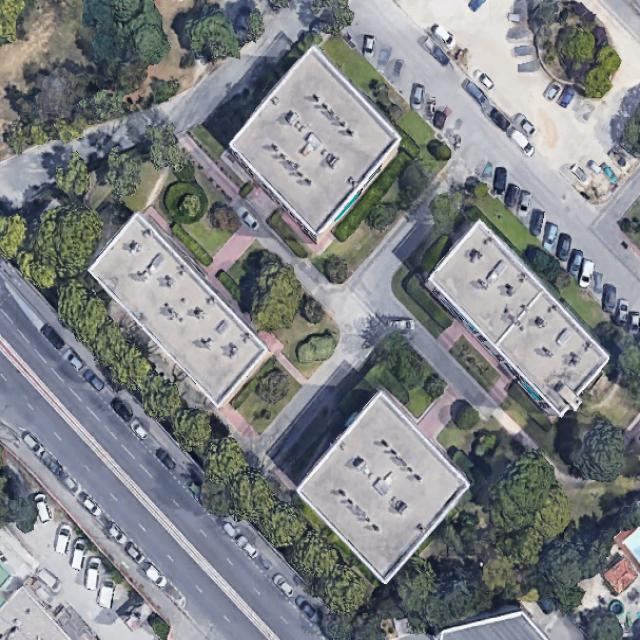immeuble: (416, 220, 621, 426), (216, 43, 417, 245), (82, 210, 277, 411), (286, 389, 480, 583)
